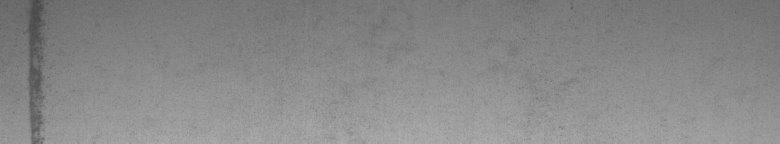hd: (17, 4, 49, 136)
